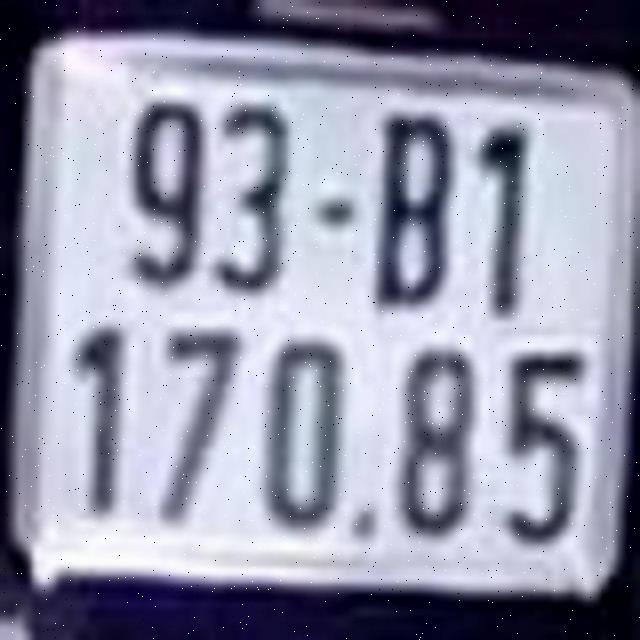0: (261, 326, 345, 530)
1: (68, 318, 130, 518), (472, 115, 531, 318)
3: (214, 92, 290, 295)
5: (504, 344, 588, 546)
7: (154, 316, 244, 526)
8: (398, 338, 478, 538)
9: (125, 88, 205, 290)
B: (372, 101, 456, 312)
